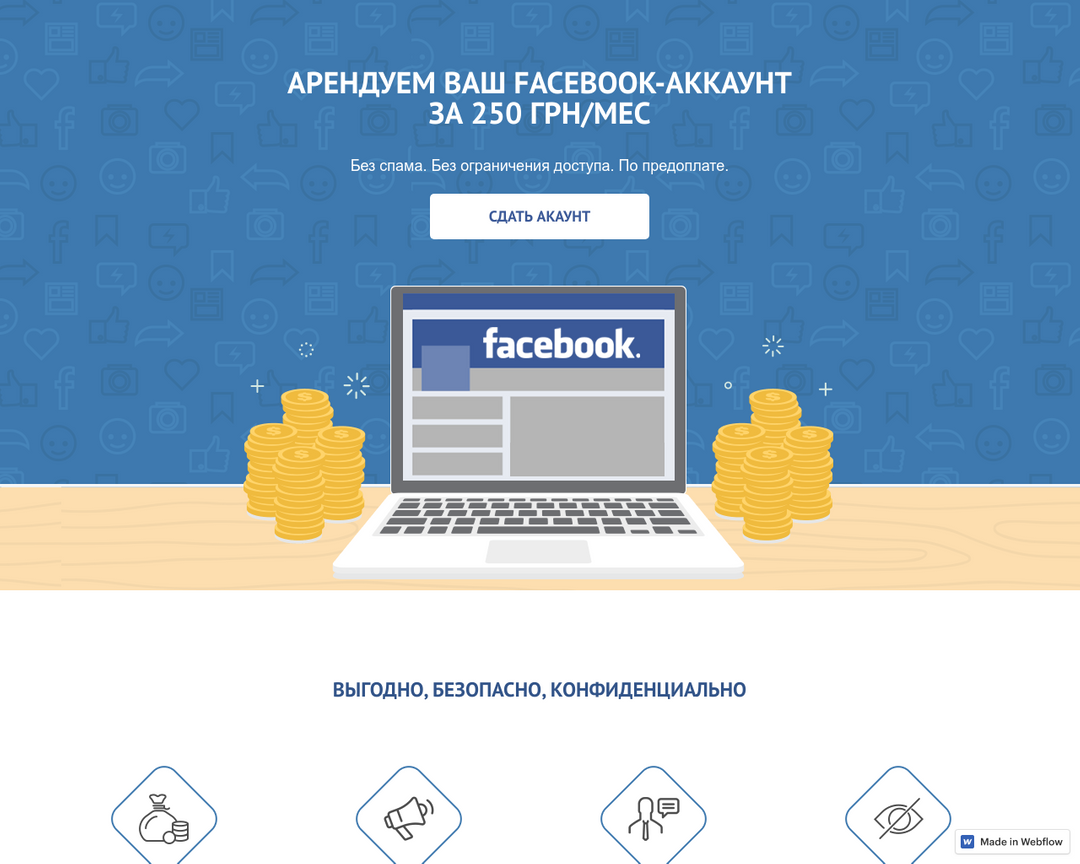Facebook: (478, 321, 644, 364)
